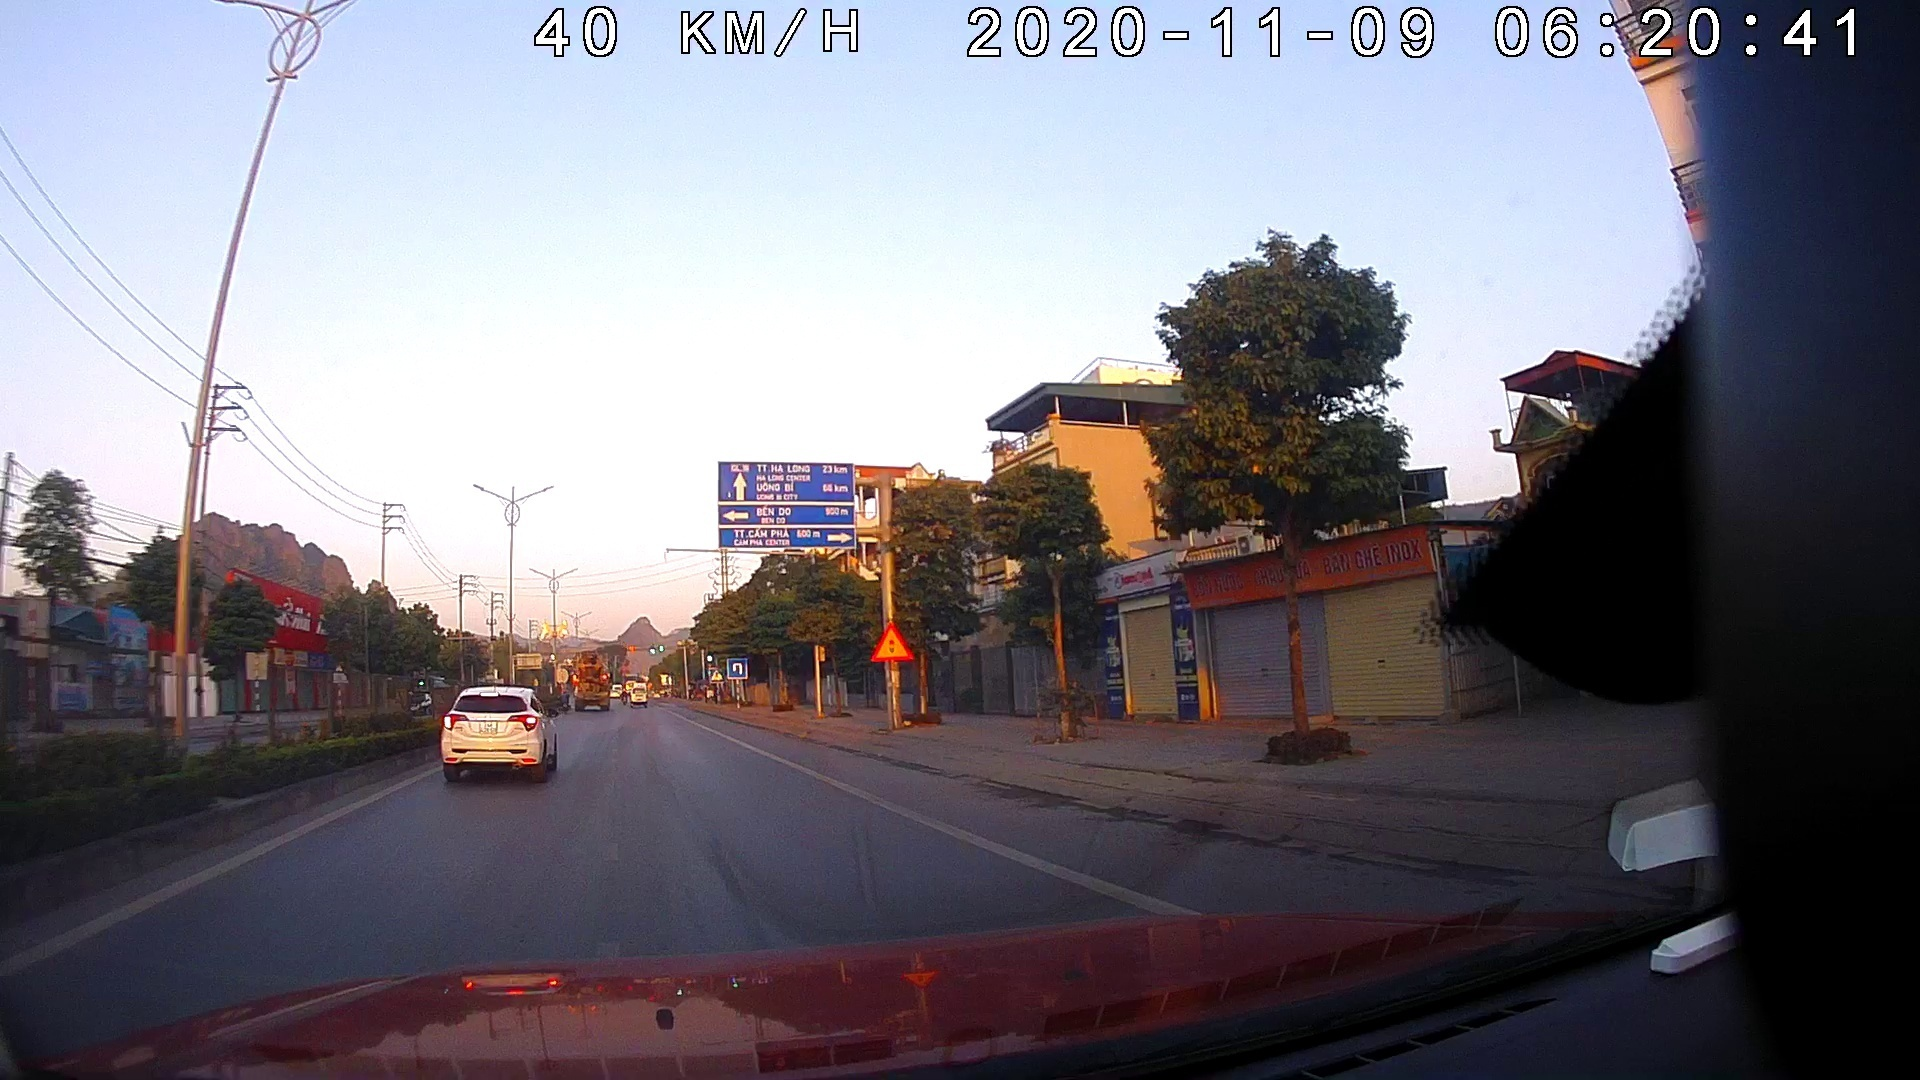Bien khac: (865, 618, 916, 663), (729, 655, 746, 680)
Nguoi di bo: (708, 663, 724, 680)
